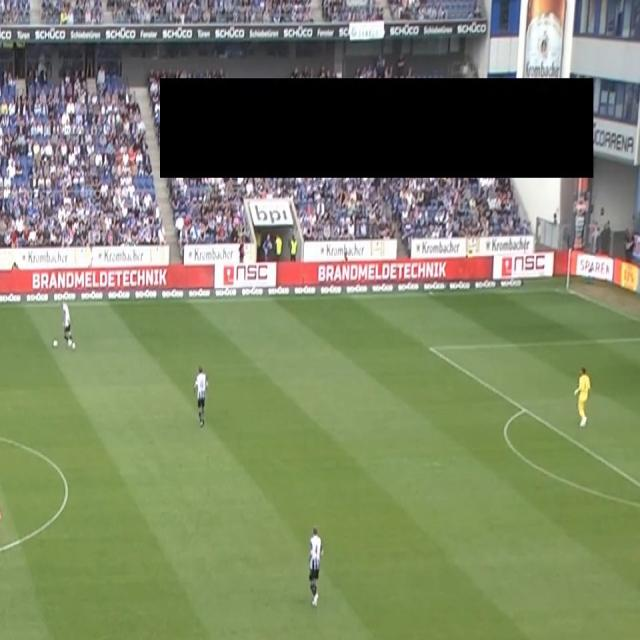ball: (52, 338, 59, 350)
